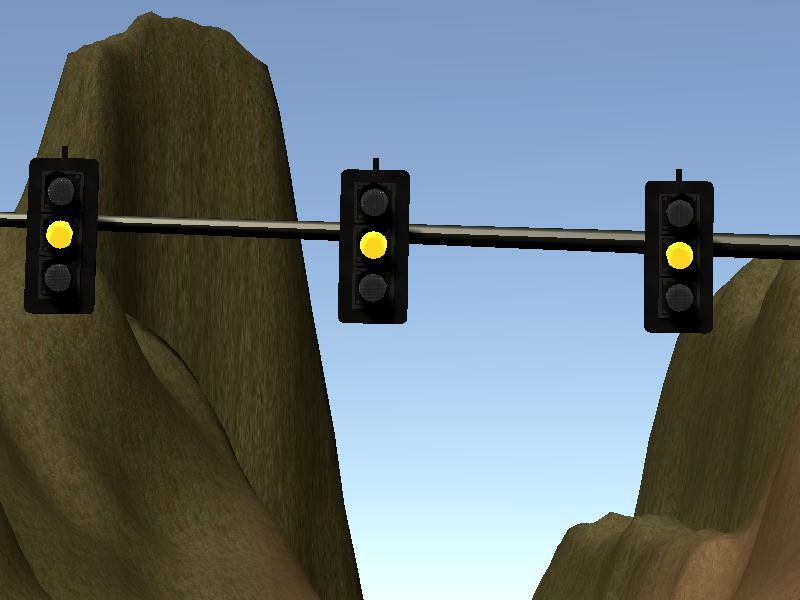Yellow: (339, 168, 409, 324), (642, 179, 712, 335), (28, 156, 92, 315)
